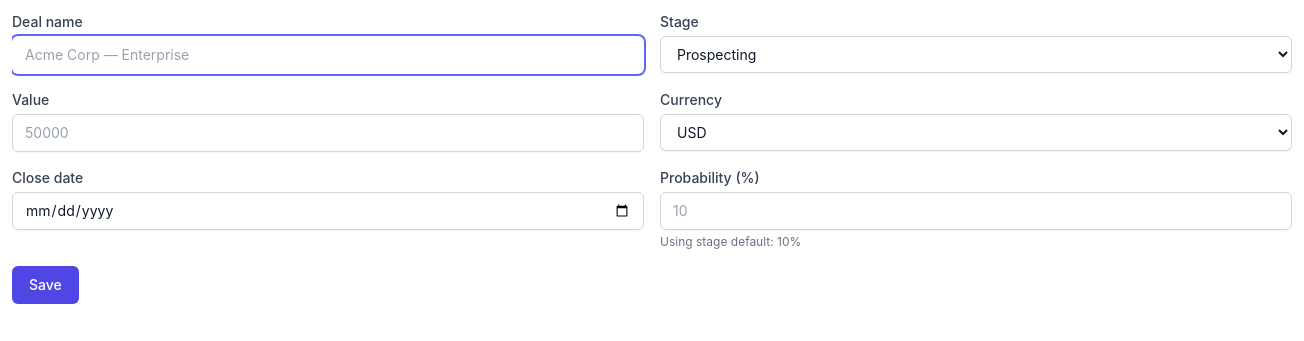
Test: DealForm — probability clear button › shows the clear button when probability field has a value
This screenshot has width=1304, height=341.
Type "50" into the number field with test id "deal-probability-input".
click(976, 211); type("50")  # box [660,192,1292,230]
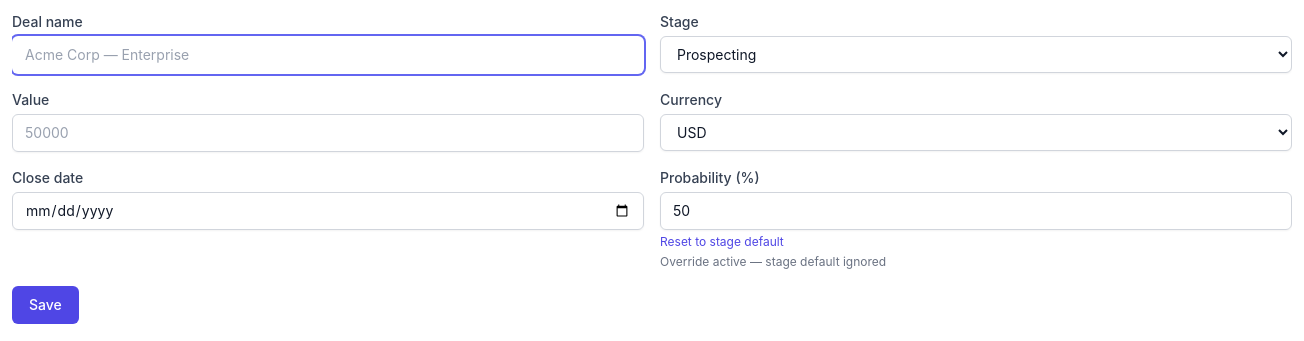
Now the button with test id "deal-probability-clear" is shown, box [660,234,784,250]
